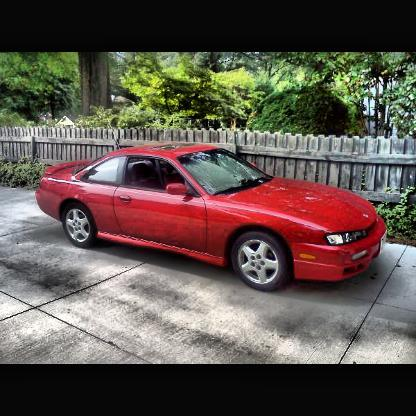Nissan 240SX Coupe 1998: (38, 147, 387, 295)
